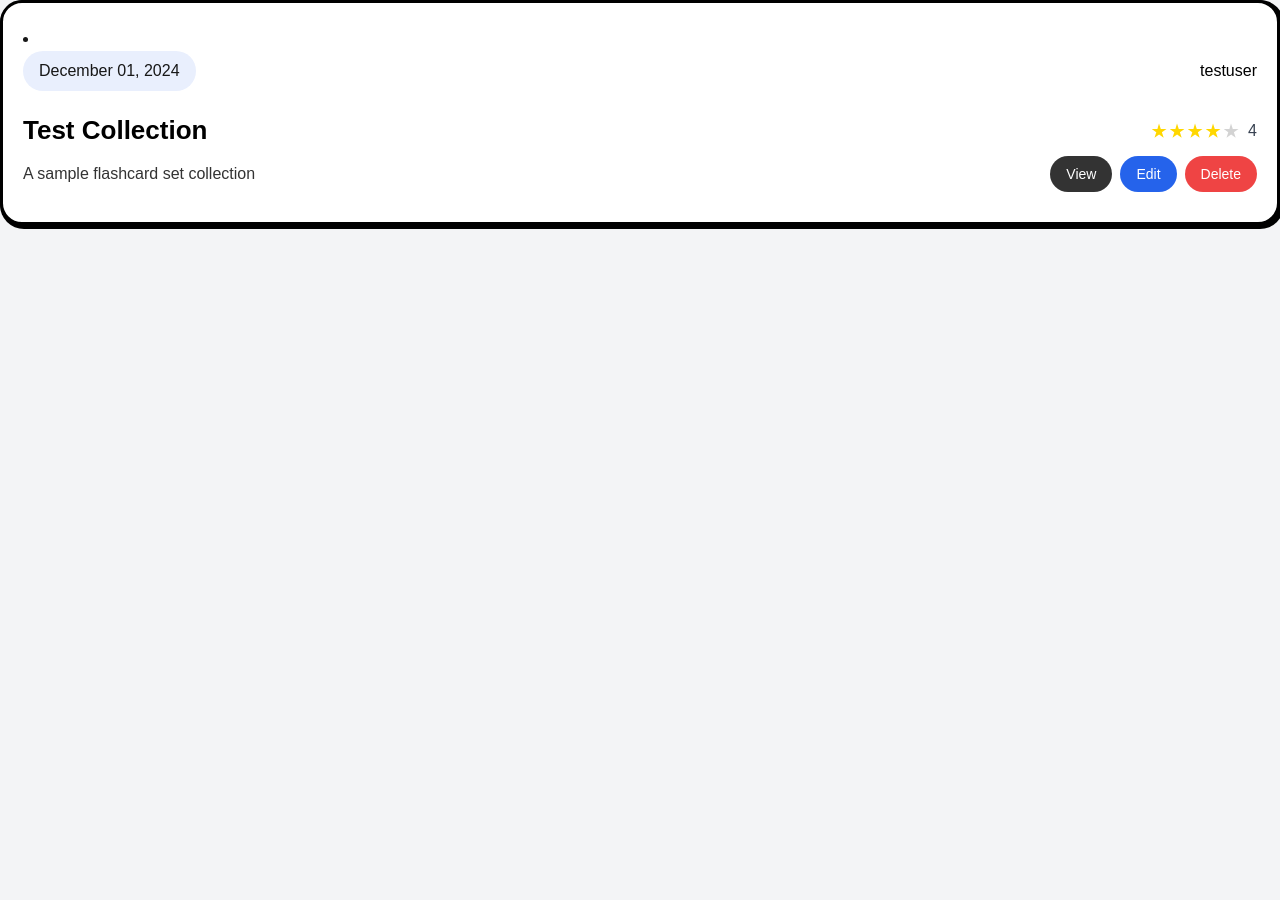
CollectionPreview › closes the modal when the cancel button is clicked
// Click on the Delete button
Click the button "Delete" at (1221, 174), box [1184,156,1257,192]
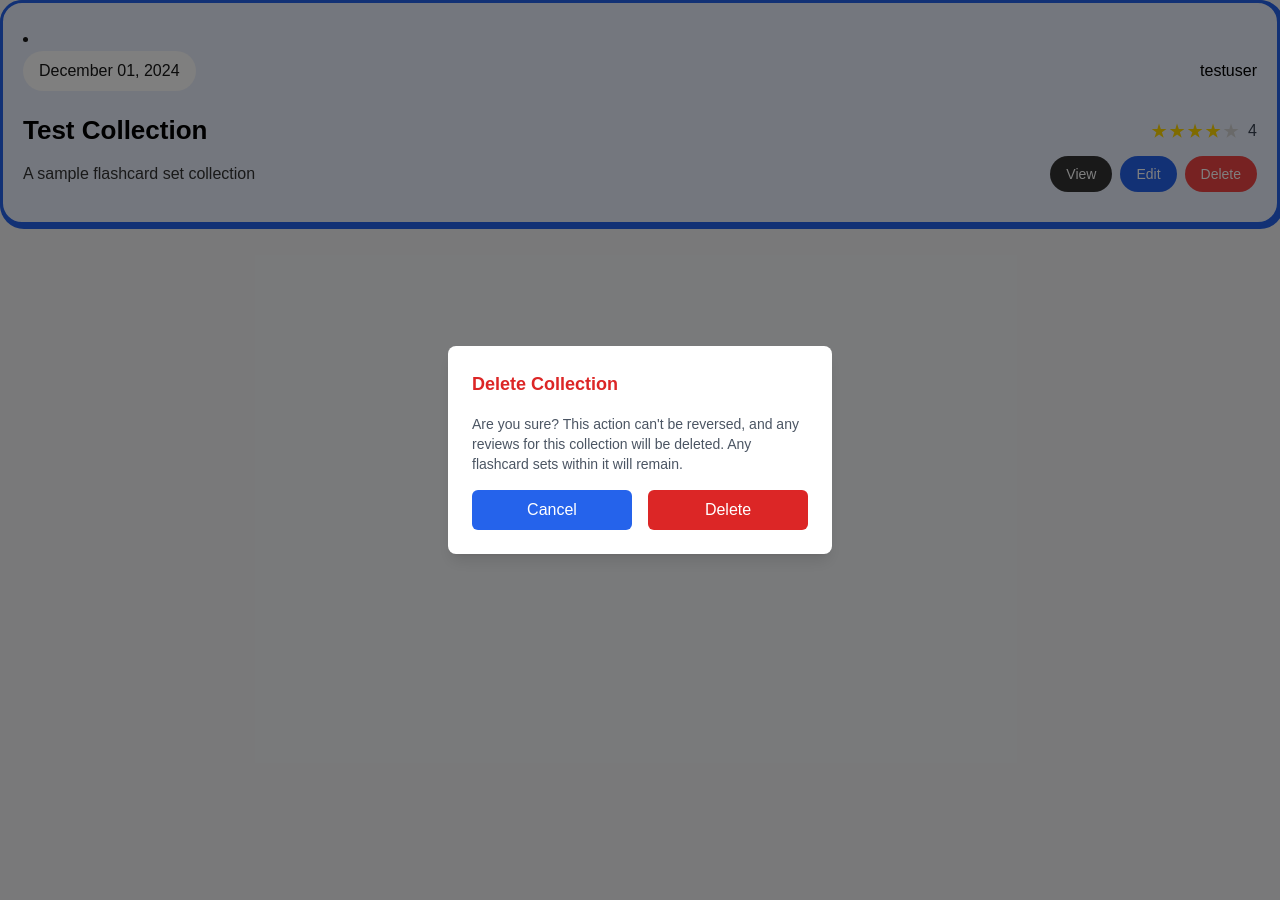
// Click on the Cancel button inside the modal
Click the button "Cancel" at (552, 510), box [472,490,632,530]
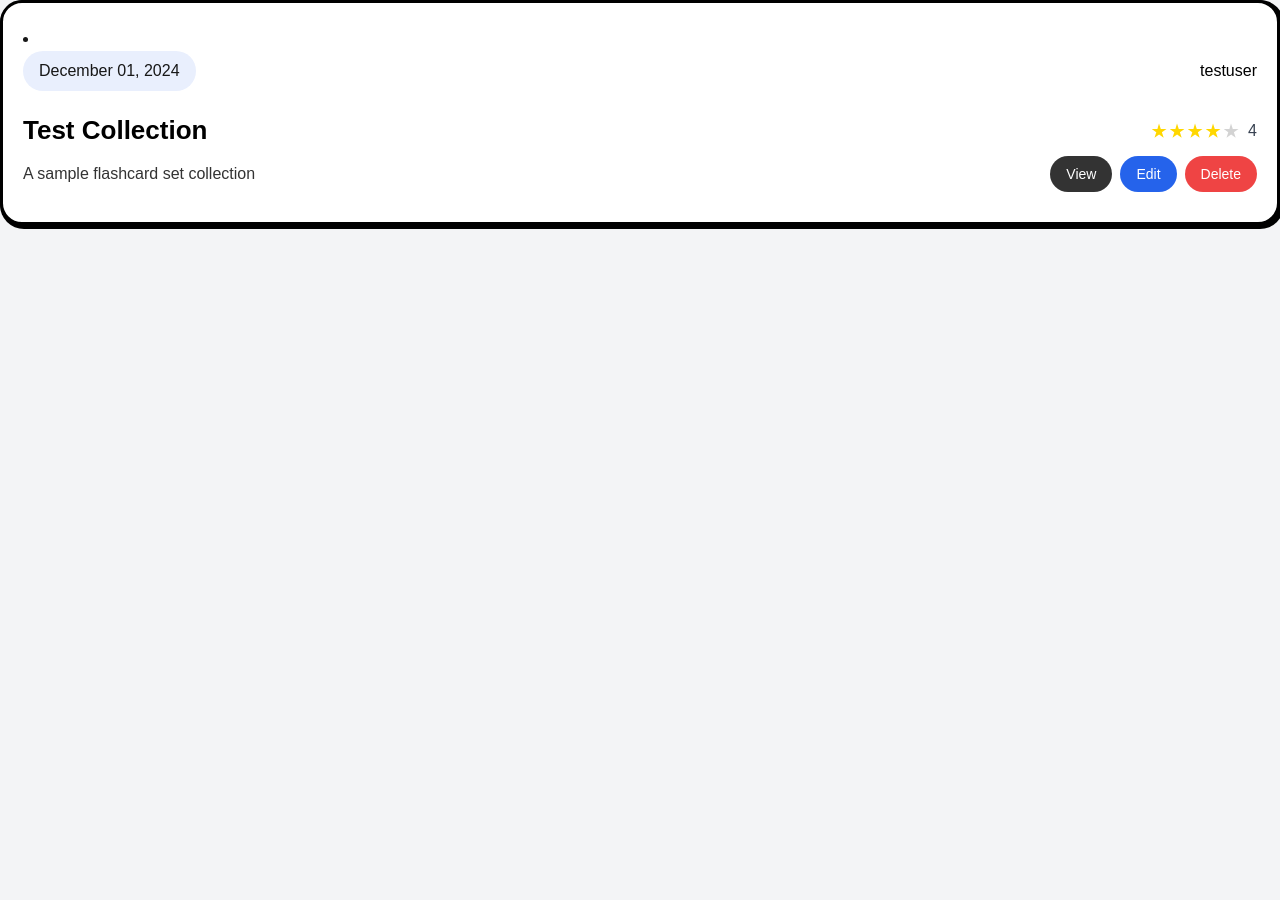
Result: the heading "Delete Collection" is gone
